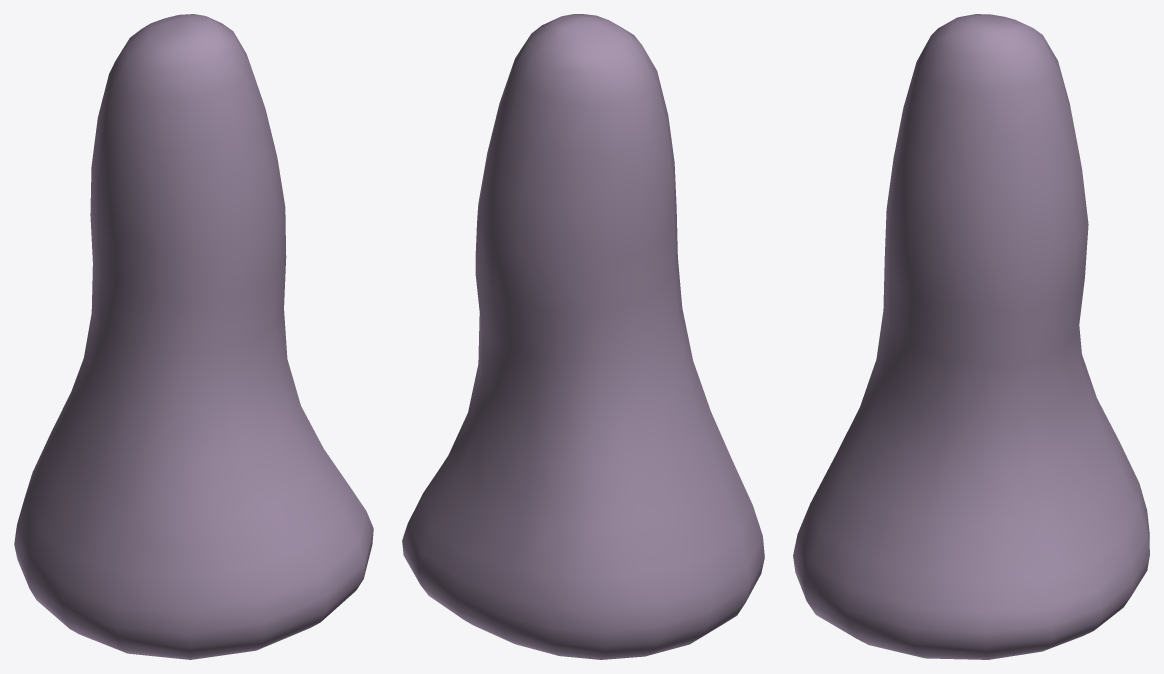
The picture shows the model from 3 angles, left to right: view 1: azimuth 30°, elevation 25°; view 2: azimuth 150°, elevation 25°; view 3: azimuth 270°, elevation 25°; orthographic projection. The views are drawn at different scales.
Parts seen in each view (by area): view 1: coral_tube_3_retop; view 2: coral_tube_3_retop; view 3: coral_tube_3_retop.
Part boxes in pixels (x1,y1,x2,y2): coral_tube_3_retop: [14, 14, 373, 659]; coral_tube_3_retop: [402, 14, 764, 659]; coral_tube_3_retop: [793, 14, 1149, 659].
Bounding box in the file's own units: 31.53 × 57.19 × 31.01.
